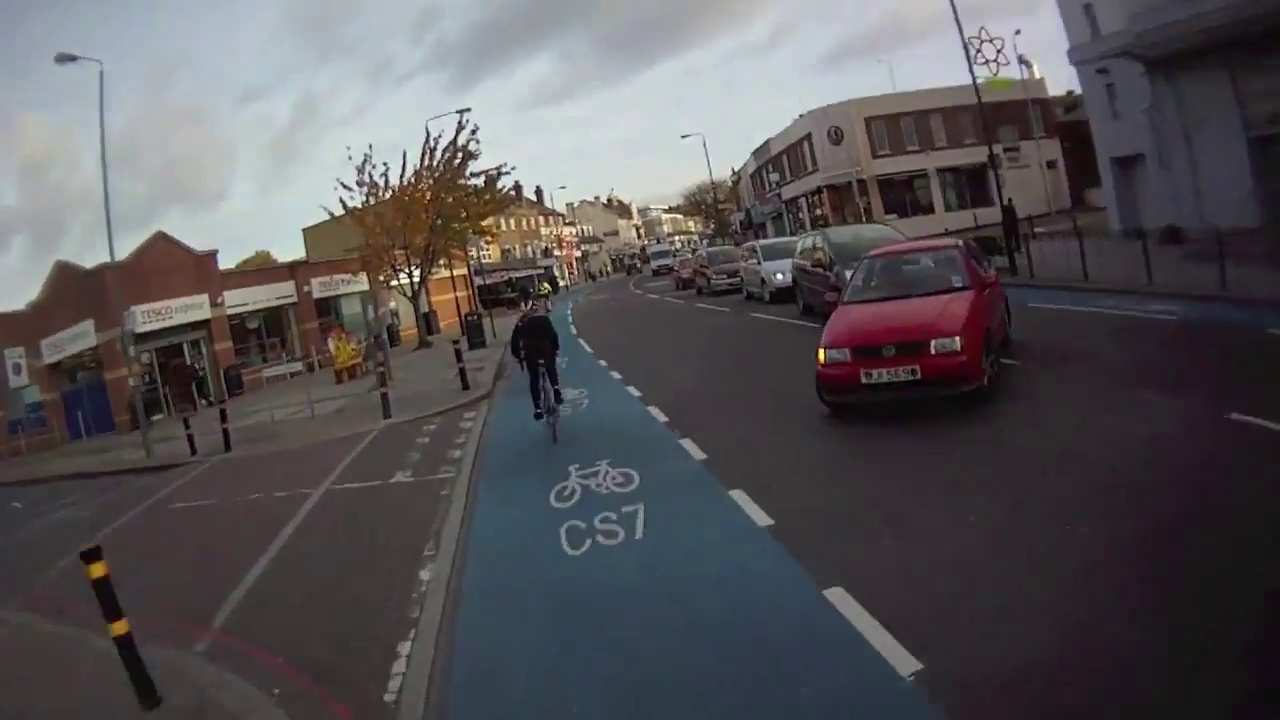cyclist_back: (507, 297, 583, 453)
